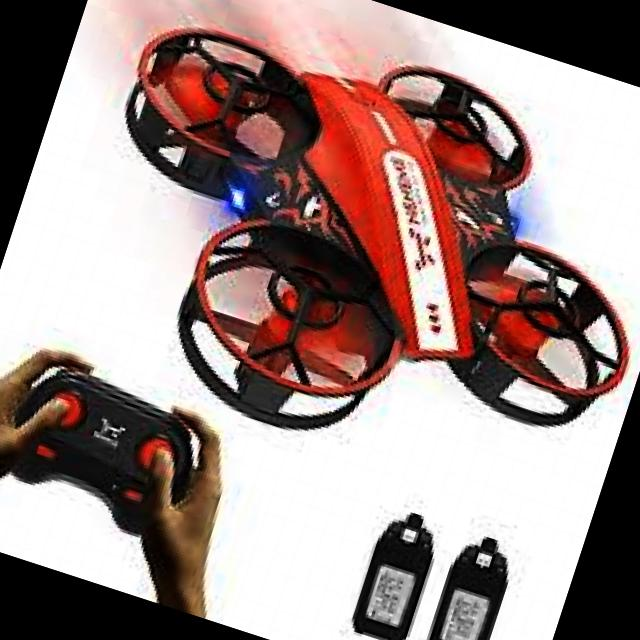drone: (22, 0, 640, 535)
